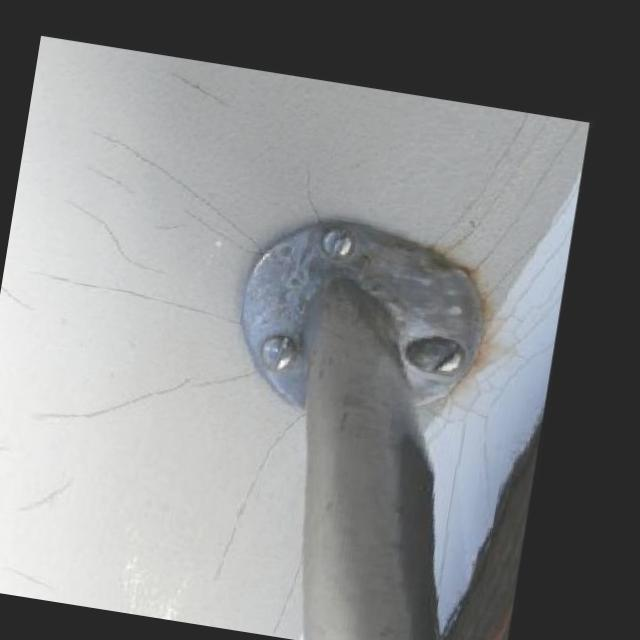crack: (83, 124, 286, 254), (33, 338, 185, 444), (204, 410, 294, 582), (20, 260, 239, 330), (48, 200, 182, 282), (70, 163, 156, 214), (138, 198, 196, 237)
